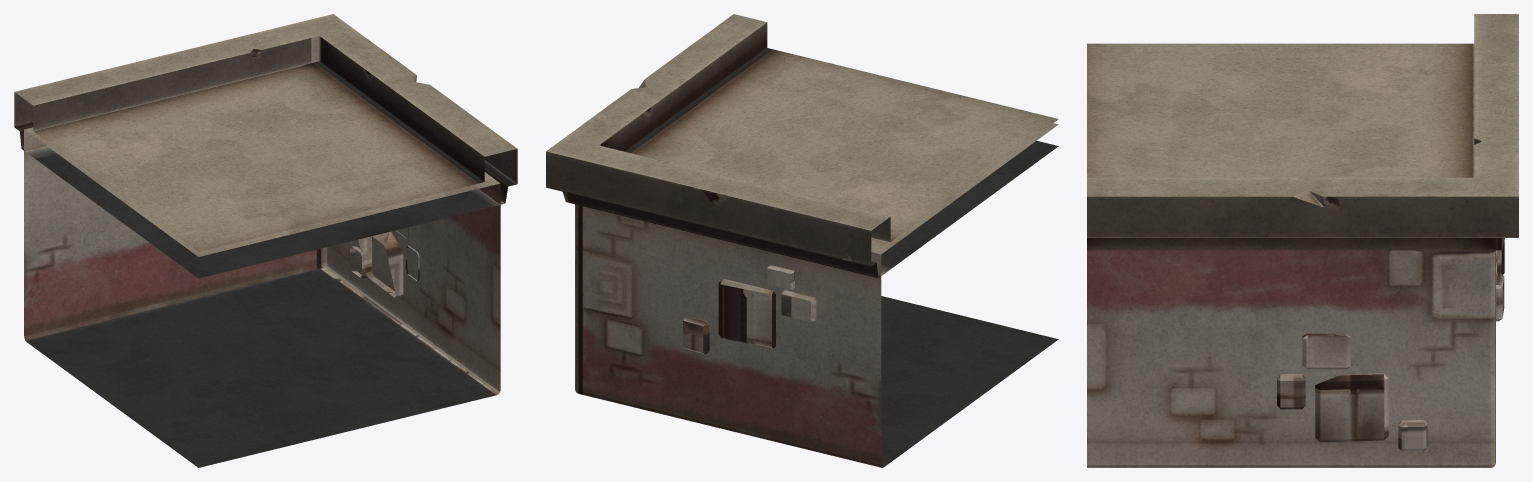
The model's file is BaseUpperCorner.dae.
3 renders of one model, left to right at view 1: azimuth 30°, elevation 25°; view 2: azimuth 150°, elevation 25°; view 3: azimuth 270°, elevation 25°, orthographic. The views are drawn at different scales.
Parts seen in each view (by area): view 1: Cube_042; view 2: Cube_042; view 3: Cube_042.
Part boxes in pixels (box(x1,y1,x2,y2)): Cube_042: box(14, 14, 517, 467); Cube_042: box(546, 14, 1058, 467); Cube_042: box(1087, 14, 1518, 467).
Size of the model in its own units: 3.95 by 3.95 by 2.85.
Materials: 1 (1 with a texture image).
